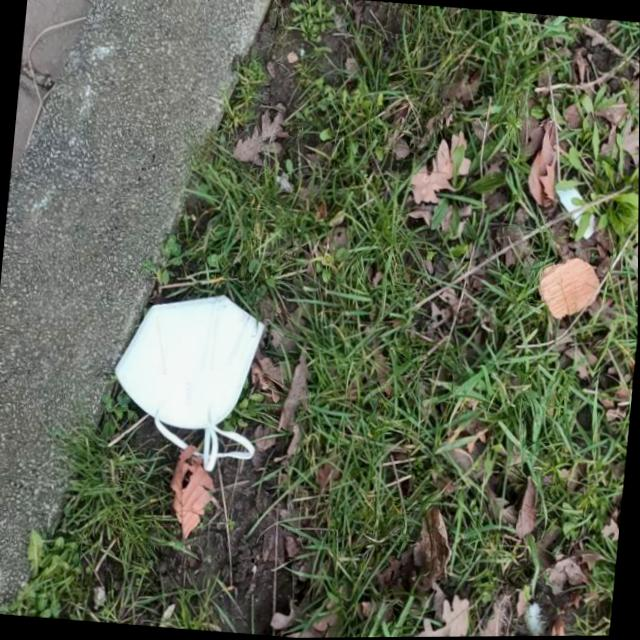Mask: (103, 285, 271, 480)
